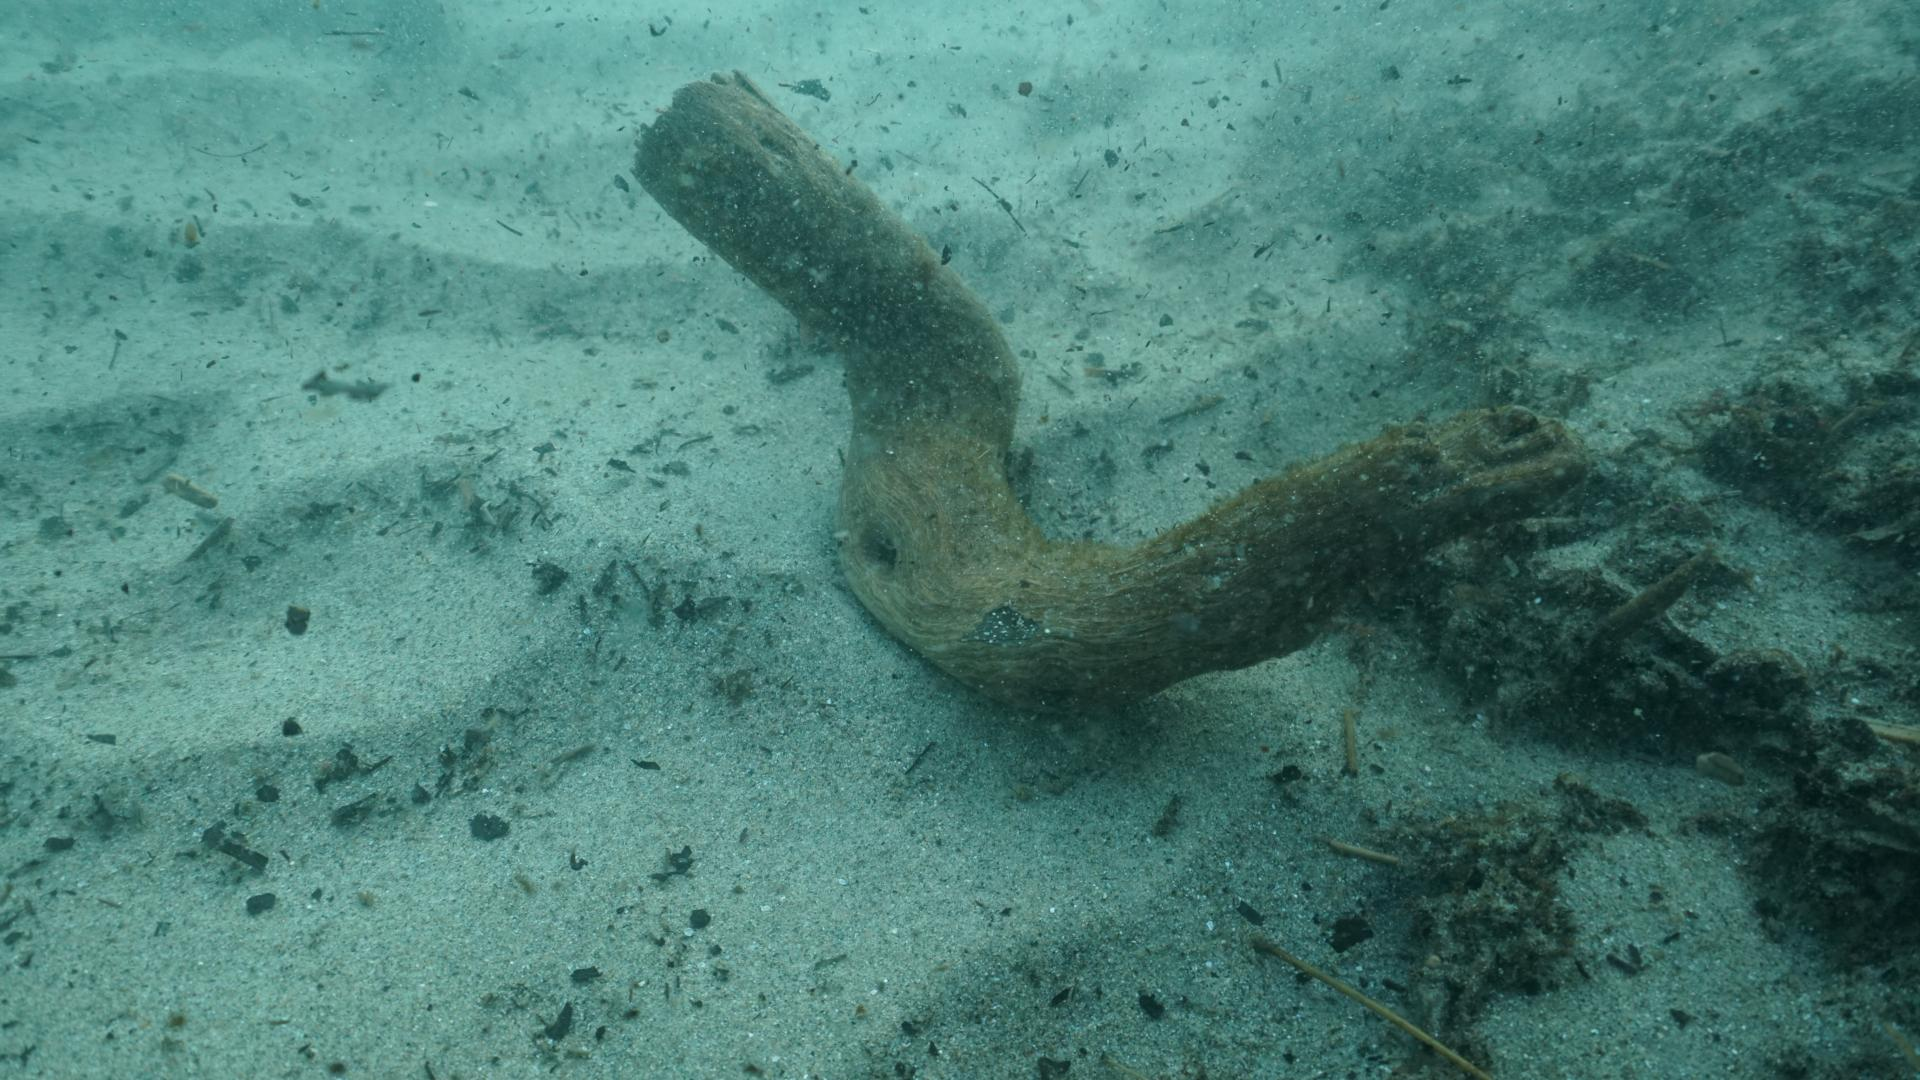wood: (633, 70, 1592, 711)
